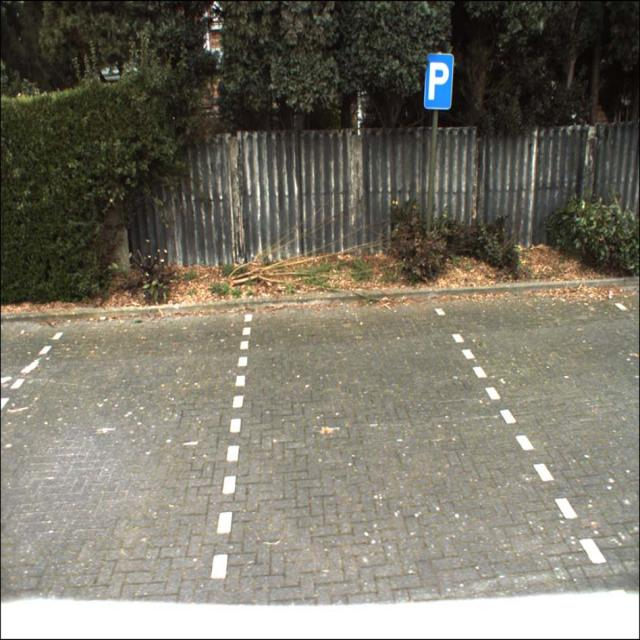park: (424, 54, 453, 110)
